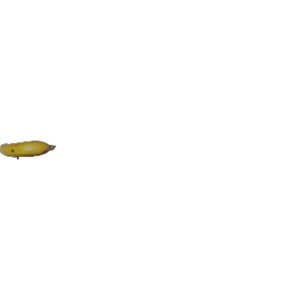banana: (1, 140, 60, 163)
